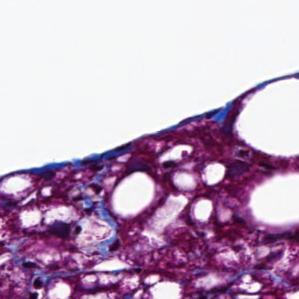inflammation: (65, 180, 109, 218), (155, 147, 196, 170), (23, 275, 53, 299)
